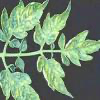Tomato leaf mosaic virus: (2, 1, 49, 46), (33, 2, 72, 49), (36, 56, 74, 99), (1, 64, 42, 99), (58, 32, 99, 67)
